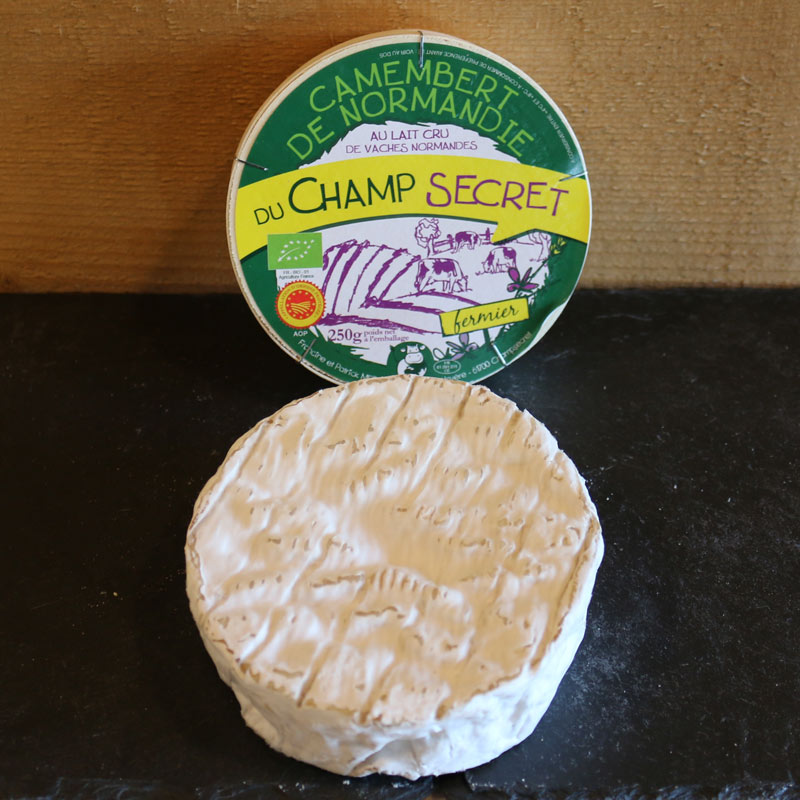camembert: (182, 371, 610, 780)
